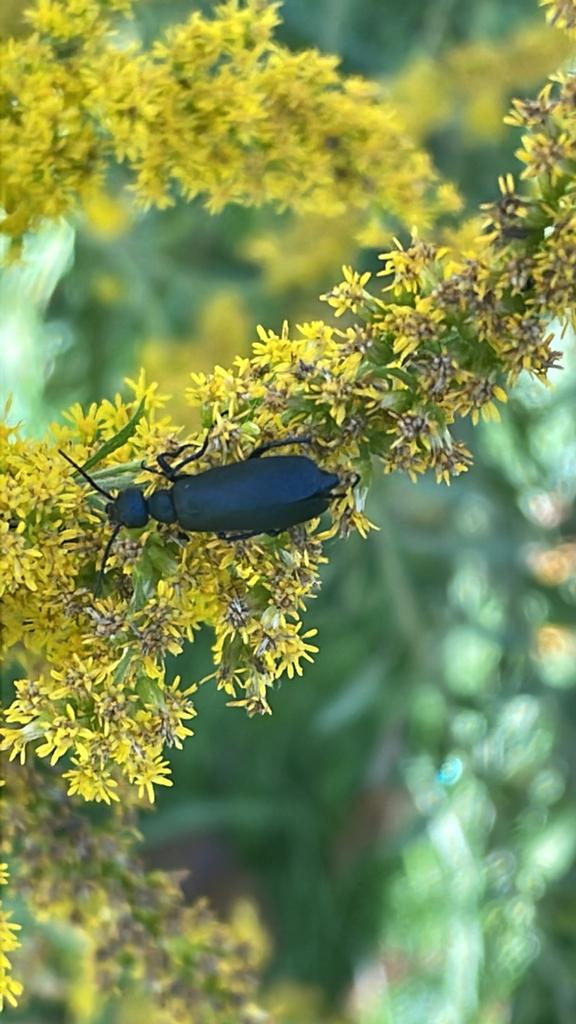blister_beetle: (5, 387, 423, 605)
